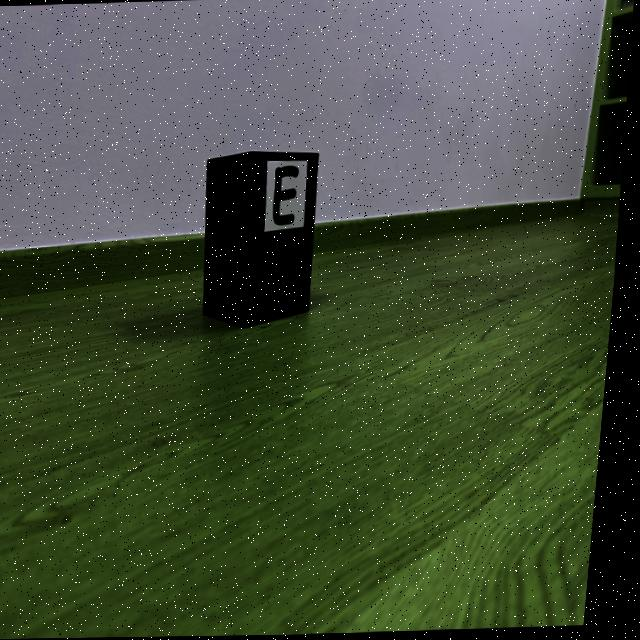E: (277, 167, 302, 225)
